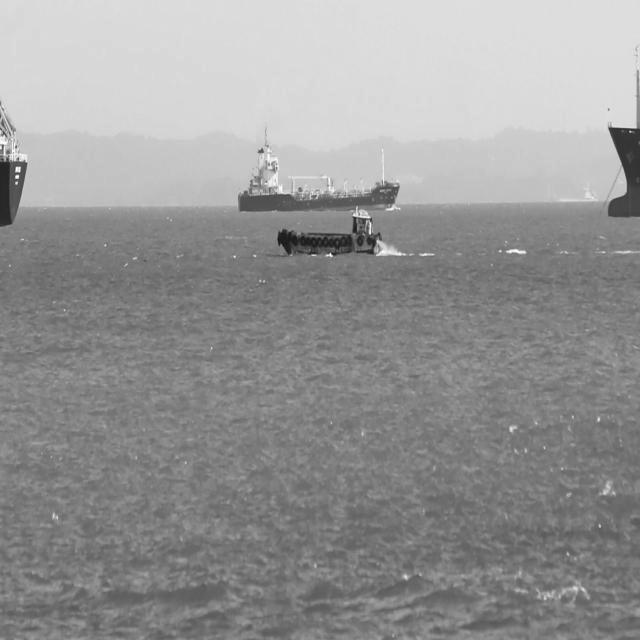ship: (238, 122, 401, 214), (606, 44, 639, 219), (276, 208, 384, 260), (0, 100, 27, 227)
